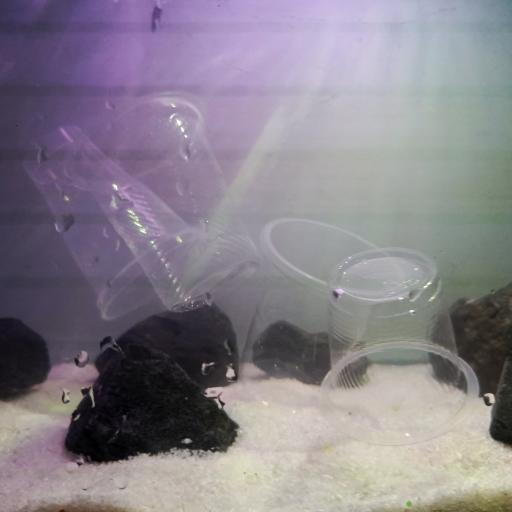plastic_cup: (63, 88, 260, 314), (20, 121, 210, 322), (317, 246, 481, 448), (236, 215, 392, 419)
